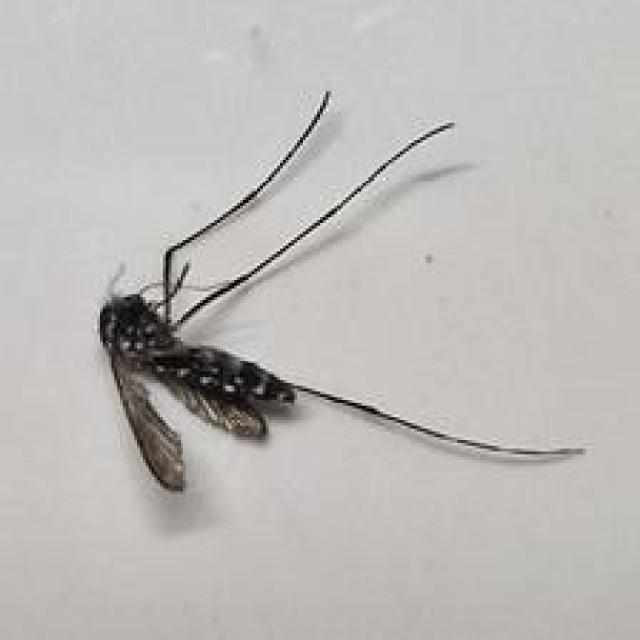Aedes albopictus: (96, 89, 587, 494)
